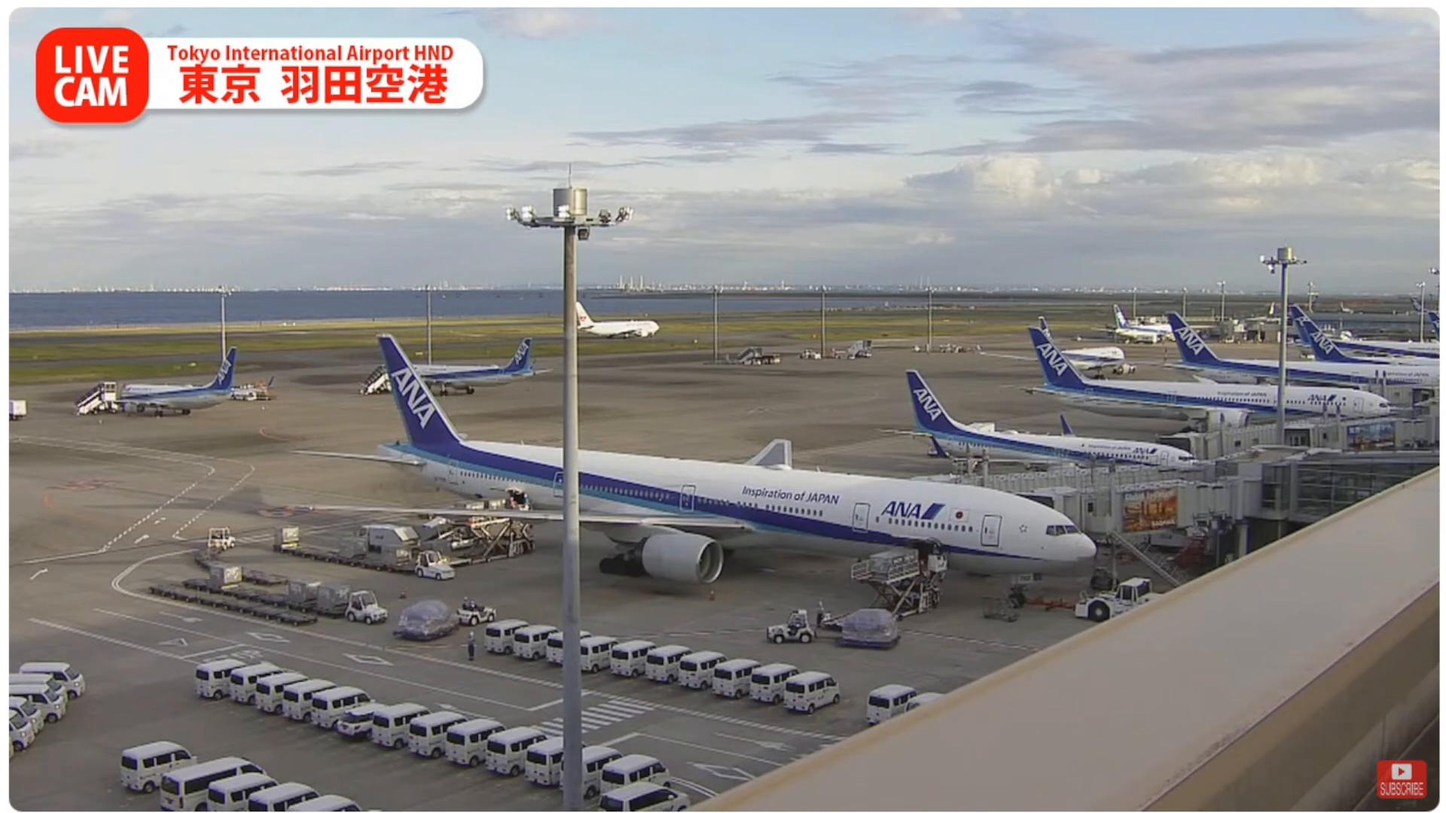APS: (1072, 572, 1167, 624)
Aerobridge: (937, 438, 1217, 490), (1025, 480, 1229, 535)
Airplane: (279, 328, 1098, 610)
Baggage truck: (351, 523, 420, 556)
Dolly: (145, 586, 308, 630), (179, 578, 343, 616), (270, 540, 413, 573), (194, 542, 289, 586), (394, 619, 464, 642), (822, 631, 902, 650)
JCPL: (818, 548, 940, 623), (443, 511, 533, 567)
Skyloader: (417, 513, 486, 554)
Tractor: (763, 606, 816, 645), (342, 589, 386, 628), (456, 594, 498, 628), (411, 549, 455, 579), (207, 526, 235, 548)
Window: (1286, 455, 1435, 523)
